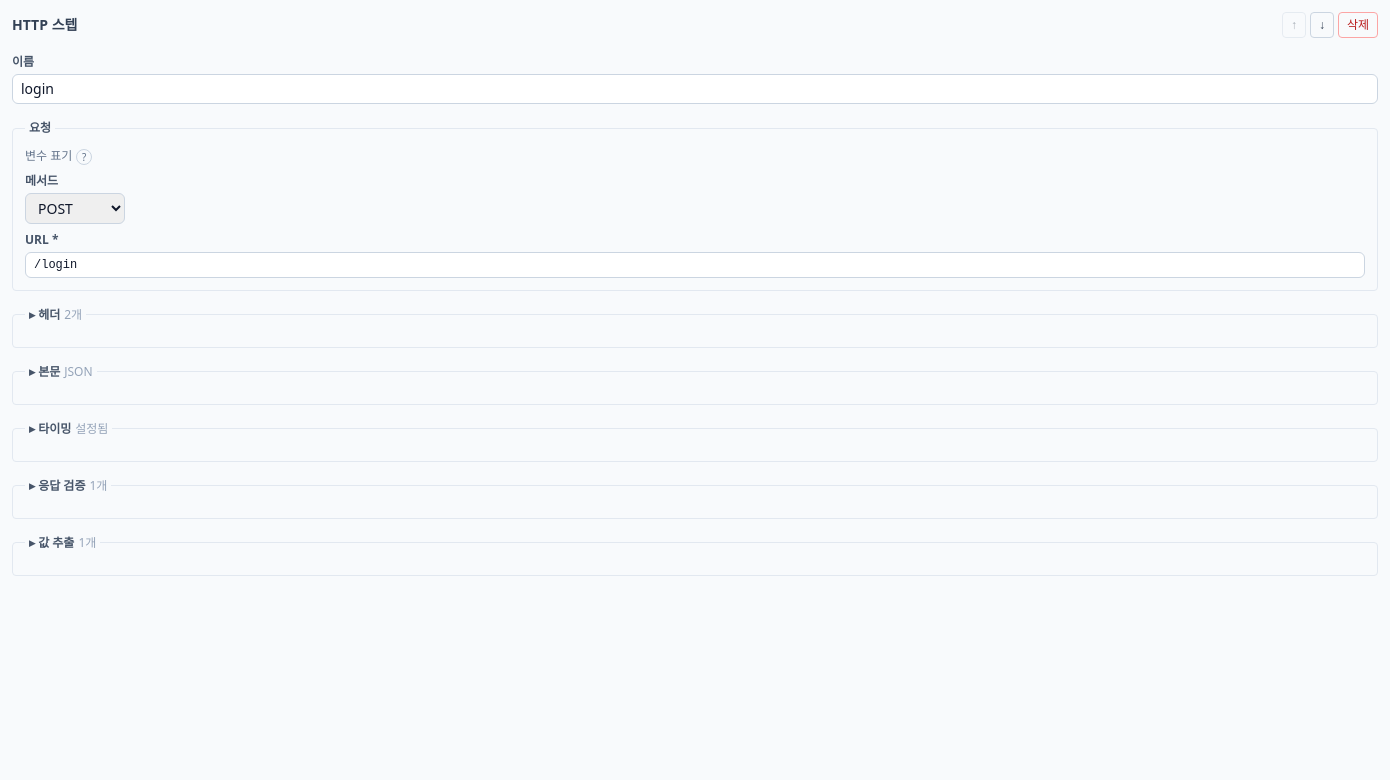
Test case: InspectorSection — 접이식 섹션 (R1/R2/R3) › 펼치면 편집기 렌더 + localStorage 기록, 스텝 전환에도 열림 유지 (R3)
Step 1. Click the button "▸ 헤더" → (45, 315), box [29,307,60,323]
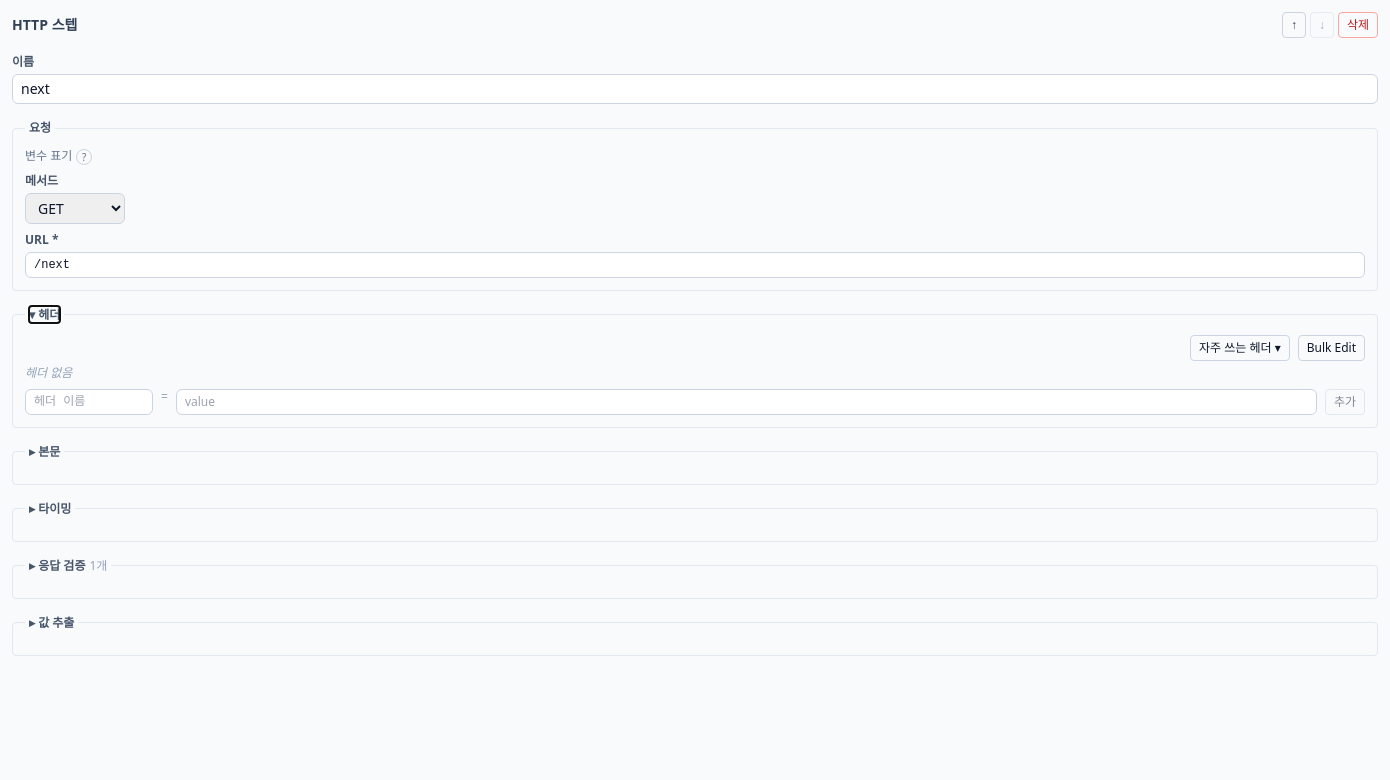
Check: the field with placeholder "헤더 이름" is shown, box [25,389,153,415]
Check: the button "▾ 헤더" is expanded, box [29,307,60,323]
